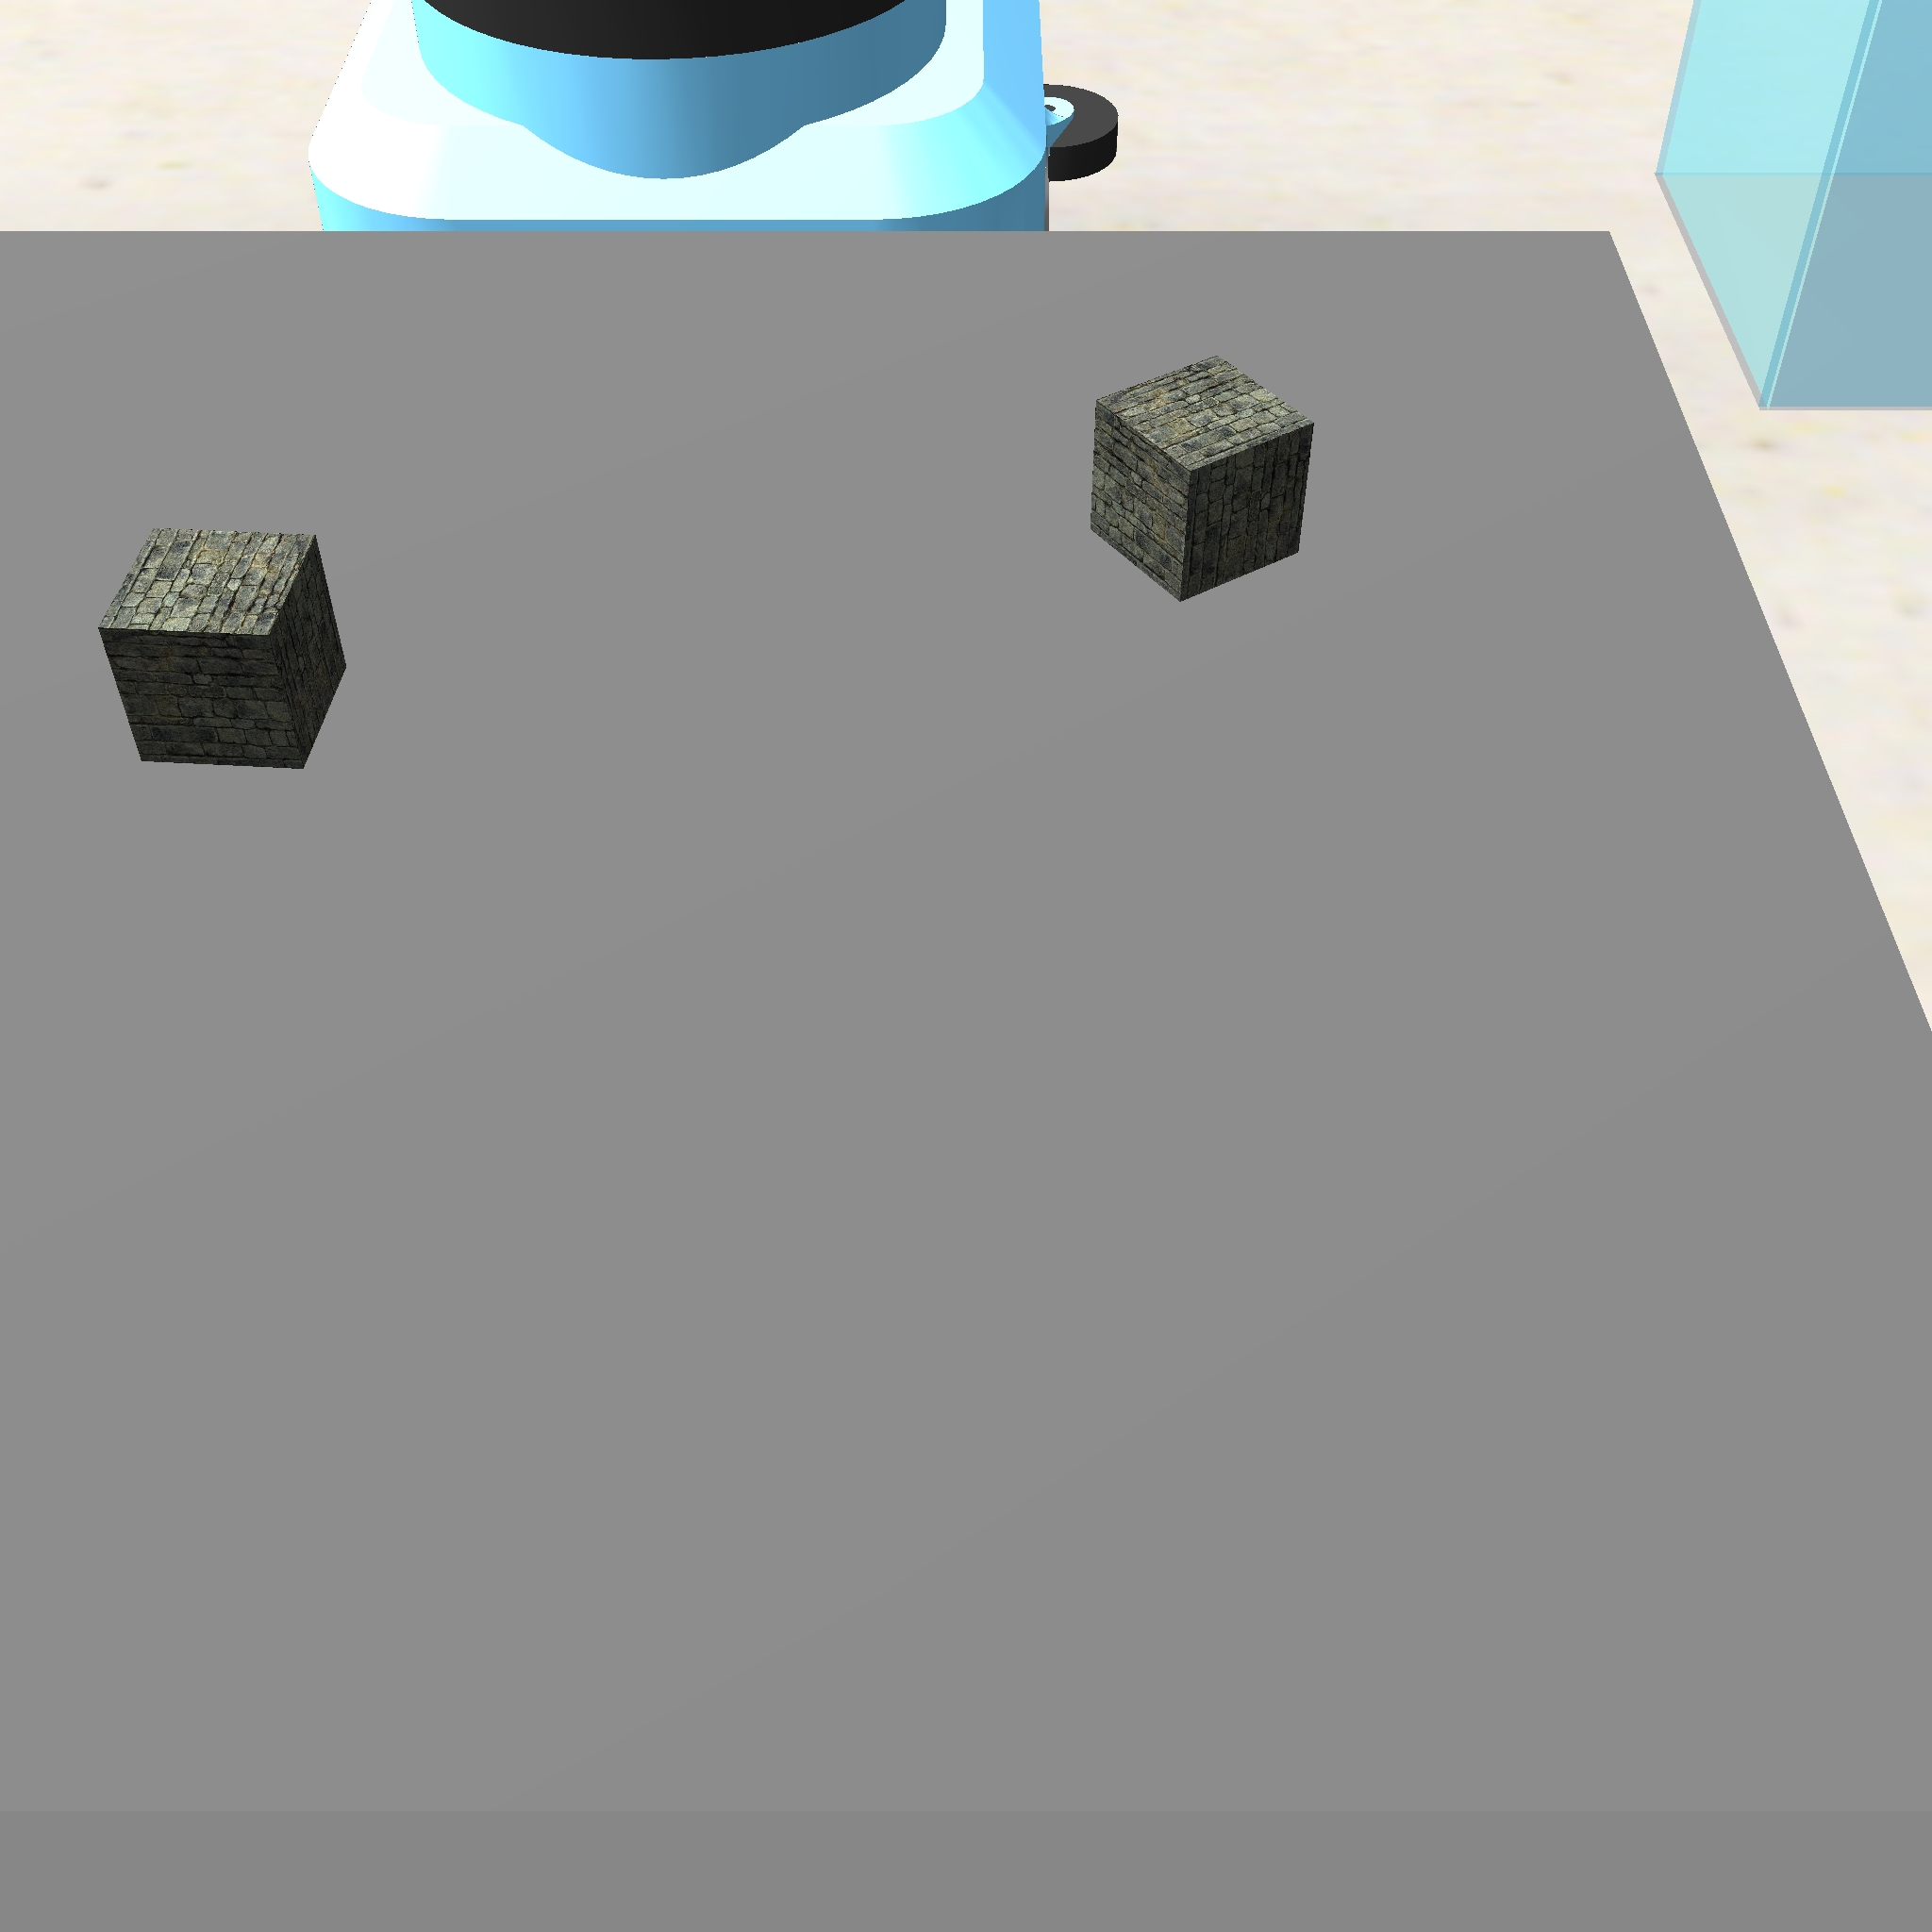cube: (92, 517, 356, 784), (1077, 349, 1322, 607)
